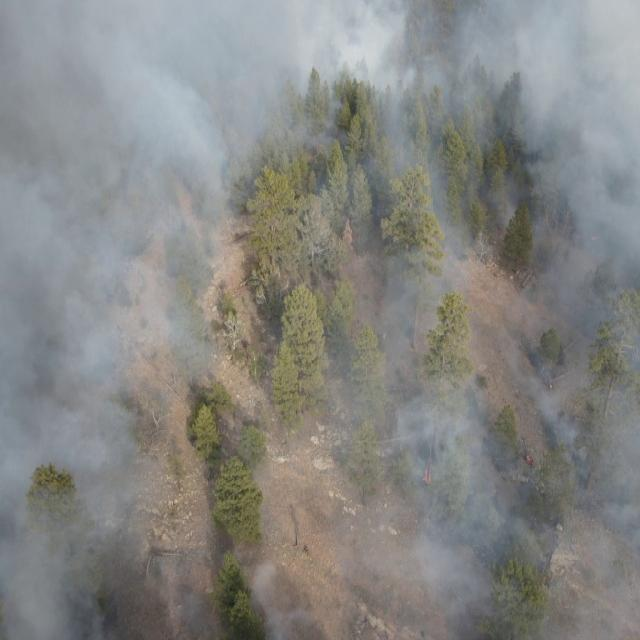fire: (412, 454, 440, 498), (520, 448, 542, 476), (587, 227, 603, 246)
smoke: (0, 0, 224, 640), (297, 257, 639, 640), (225, 1, 640, 255), (224, 399, 296, 640)
